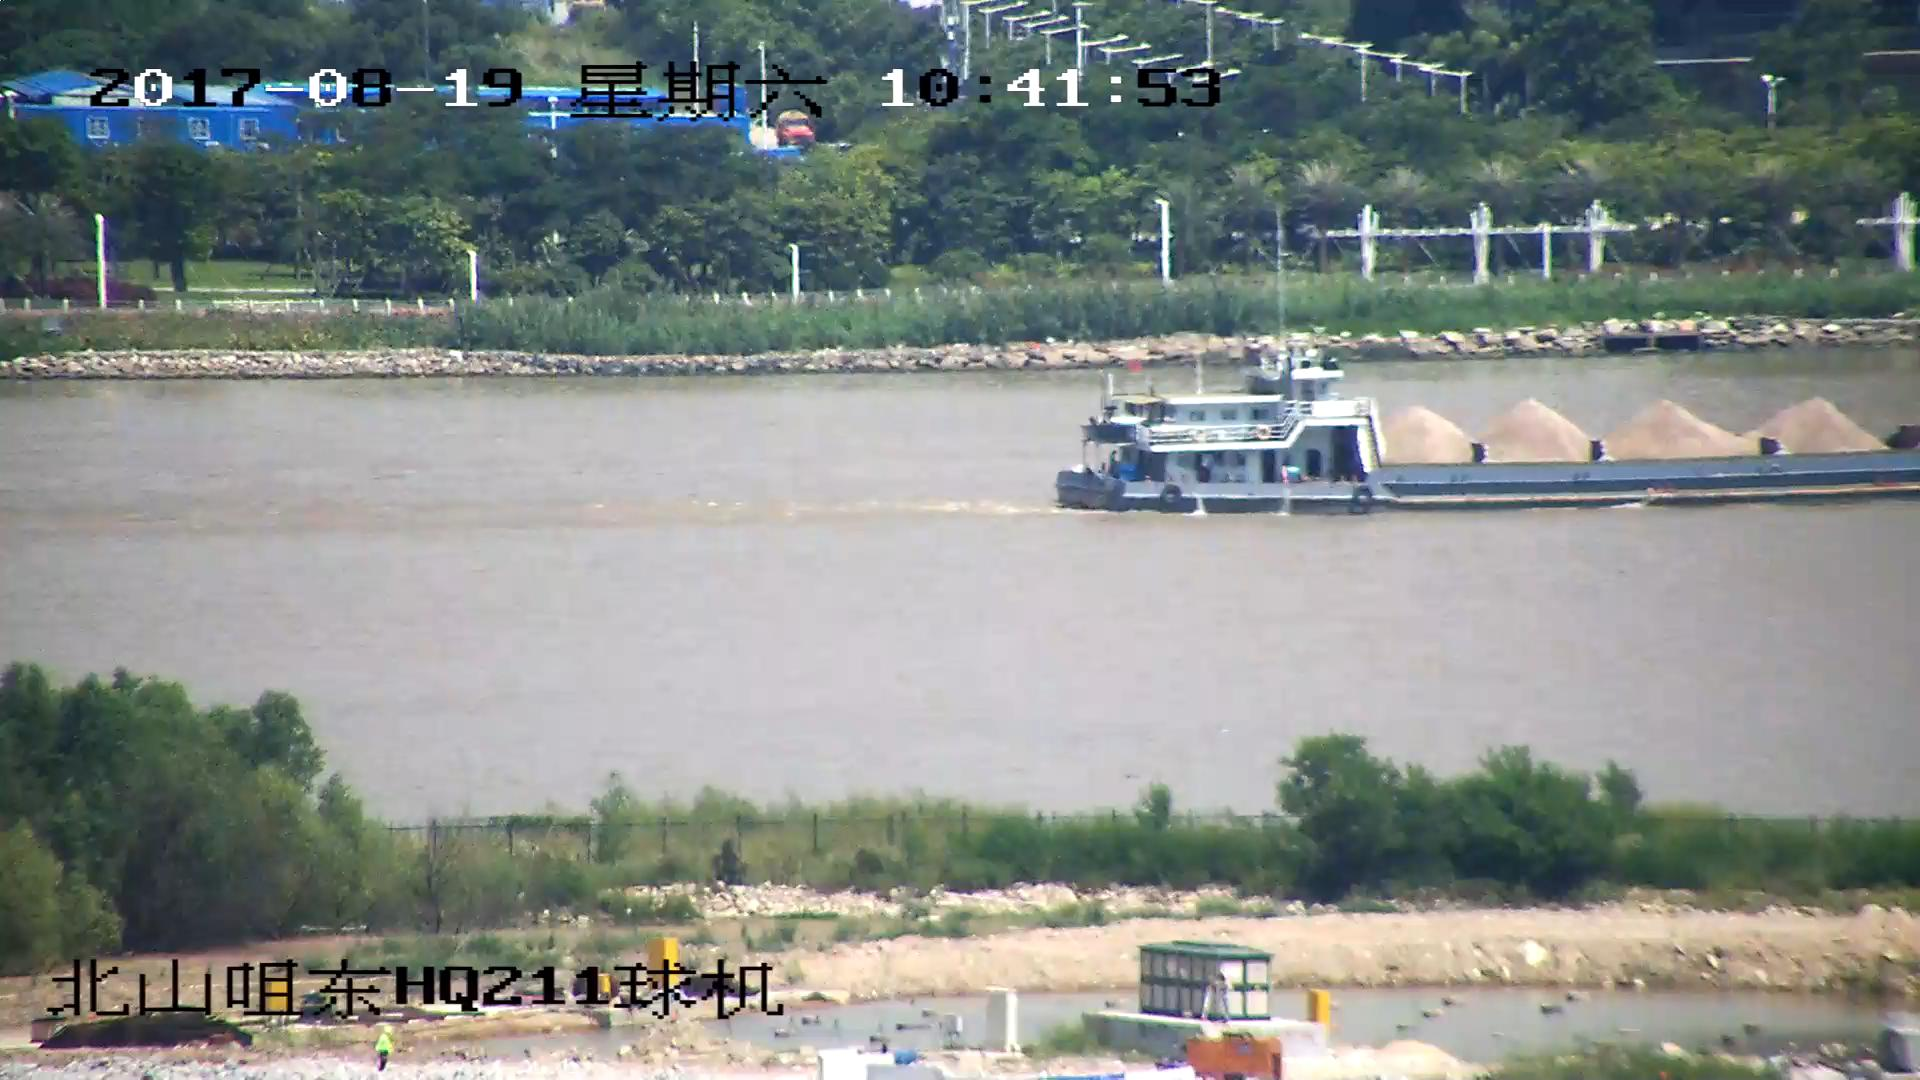ore carrier: (1051, 270, 1920, 515)
